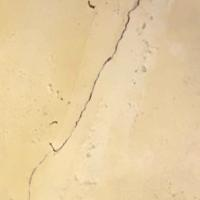crack: (21, 1, 147, 161)
